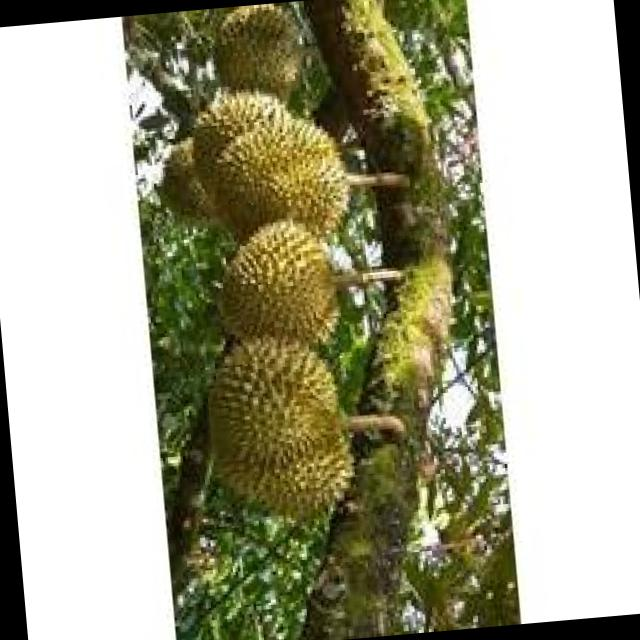fruit: (188, 320, 381, 546), (140, 73, 368, 263), (193, 204, 365, 360)
